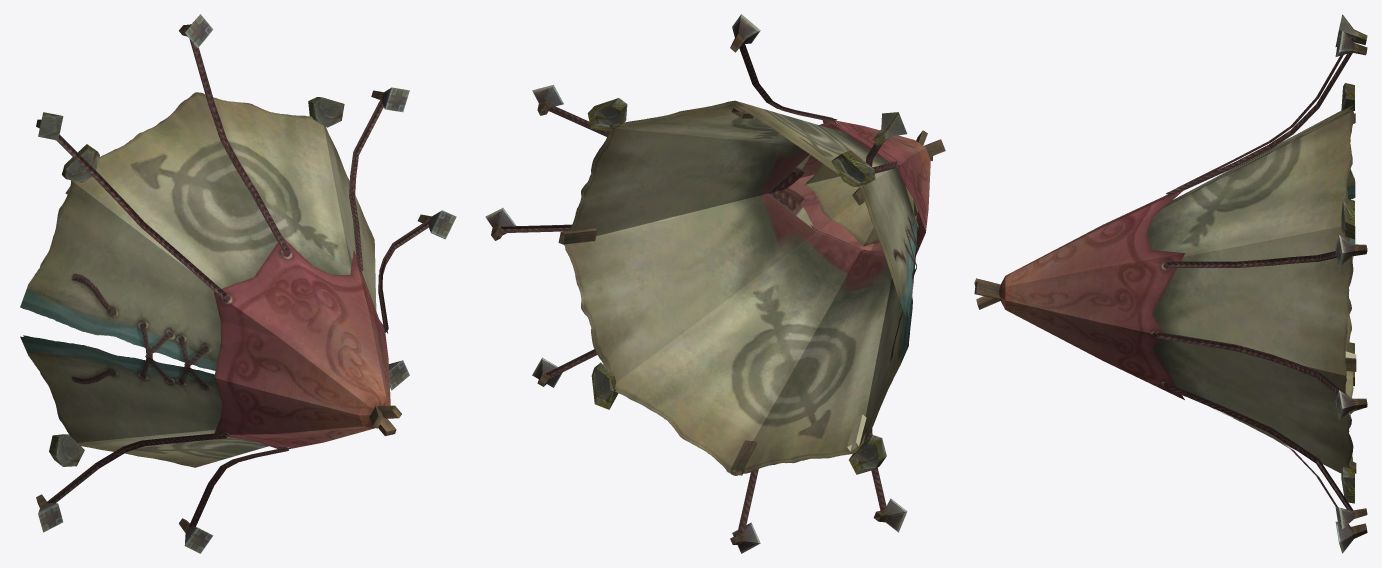
File: juqing_yewai_597_zhangpeng03.obj
3 renders of one model, left to right at view 1: azimuth 30°, elevation 25°; view 2: azimuth 150°, elevation 25°; view 3: azimuth 270°, elevation 25°, orthographic. The views are drawn at different scales.
Visible parts, largest first — view 1: juqing_yewai_597_zhangpeng03; view 2: juqing_yewai_597_zhangpeng03; view 3: juqing_yewai_597_zhangpeng03.
Part boxes in pixels (left/top/right/bottom): juqing_yewai_597_zhangpeng03: left=20, top=14, right=456, bottom=553; juqing_yewai_597_zhangpeng03: left=485, top=14, right=945, bottom=553; juqing_yewai_597_zhangpeng03: left=974, top=14, right=1367, bottom=553.
Bounding box in the file's own units: 318 × 376 × 256.
2 materials, 2 textured.
